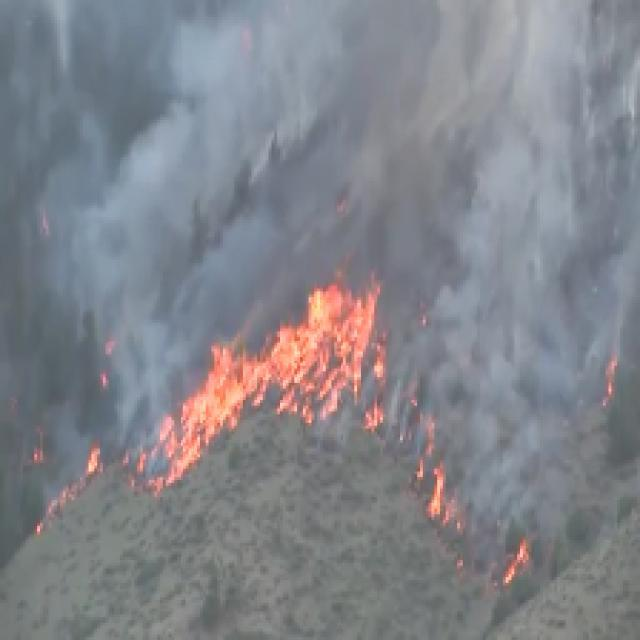Fire: (76, 265, 466, 525)
Smoke: (95, 13, 603, 245)
